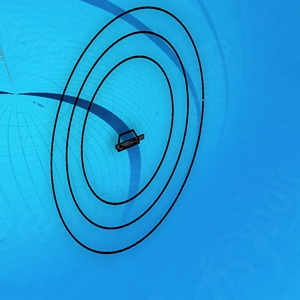circle: (37, 2, 216, 263)
submarine: (115, 133, 146, 151)
